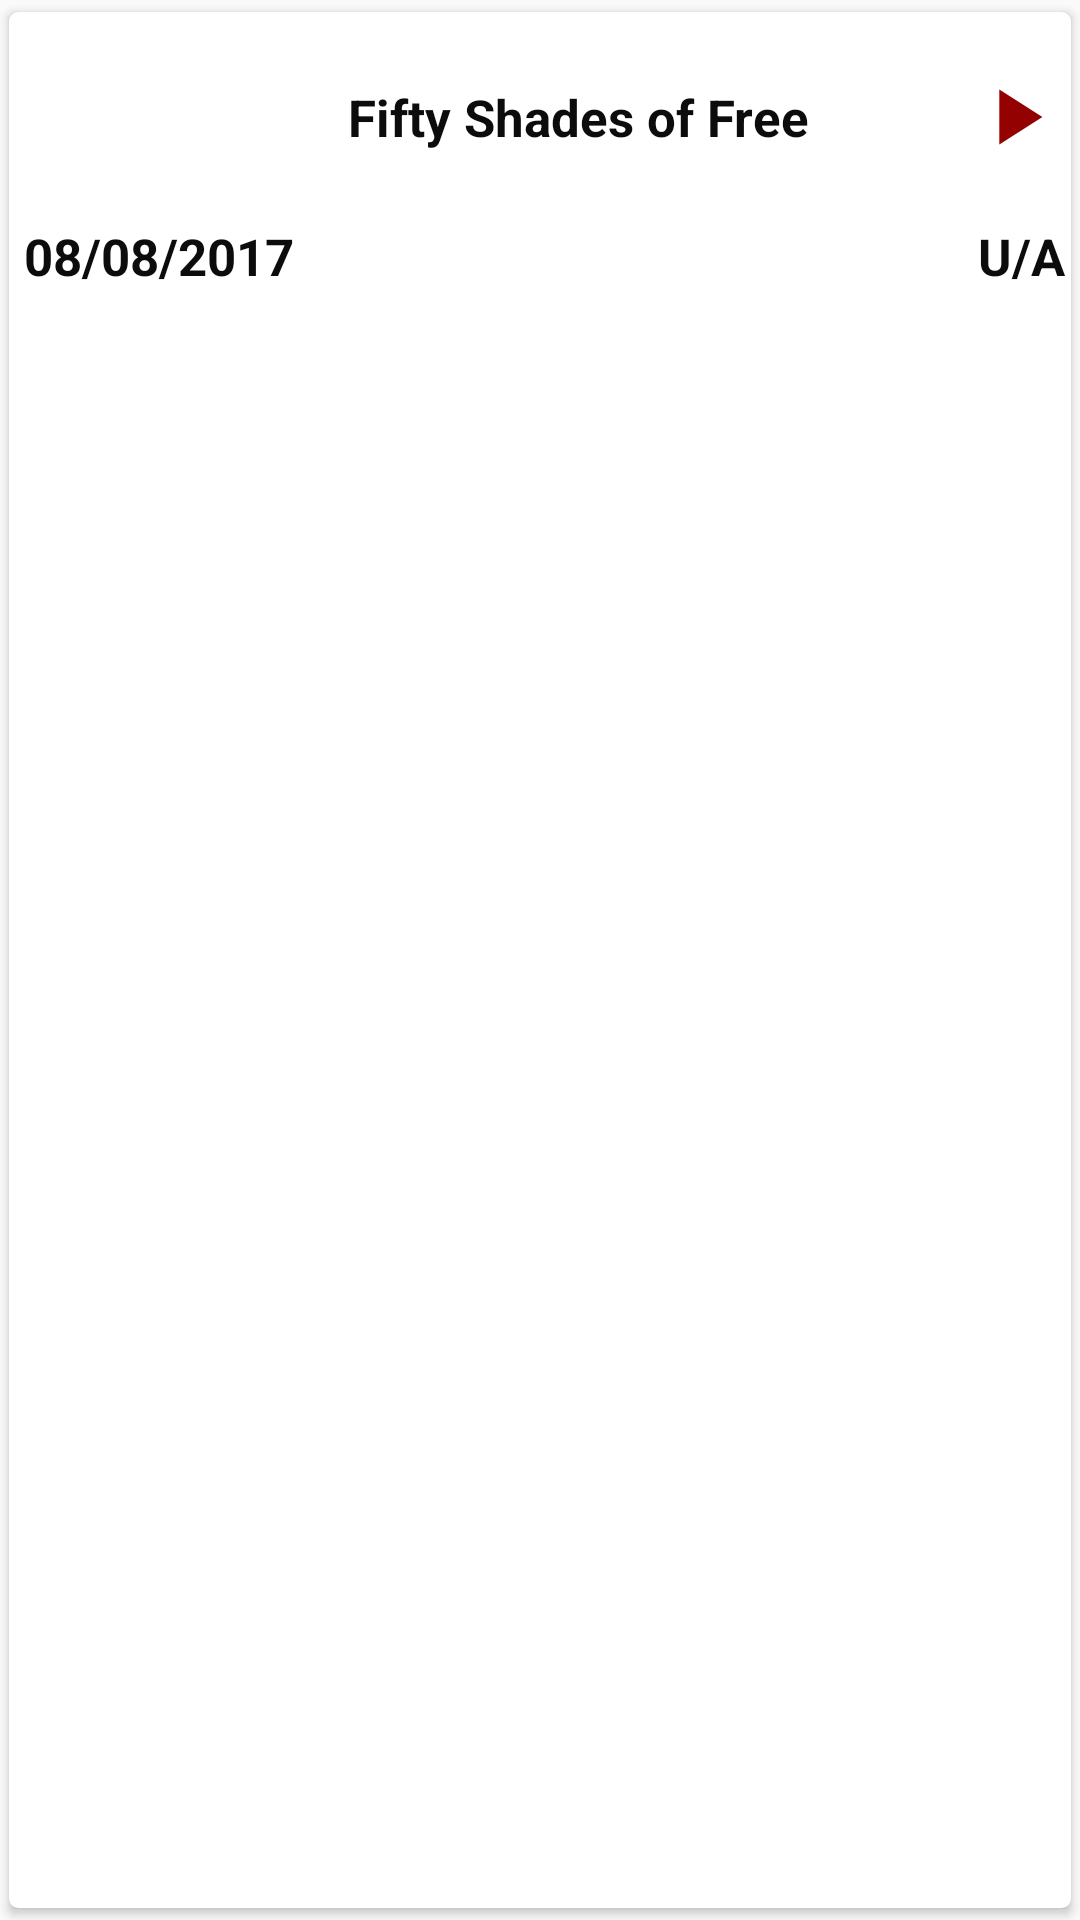

Where icons sit on this 1080px×1920px app screen, as detection(x1, y1, x2, y2):
play arrow: detection(999, 89, 1042, 145)
